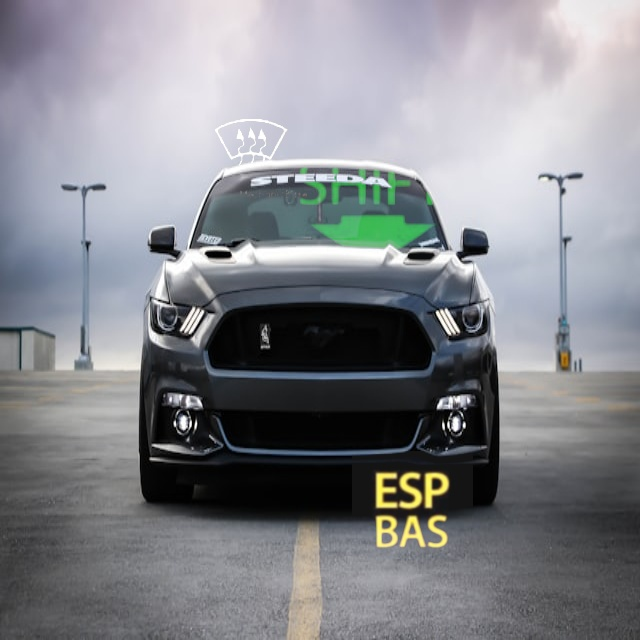symbol: (272, 111, 468, 307), (352, 451, 473, 572), (192, 84, 312, 204)
